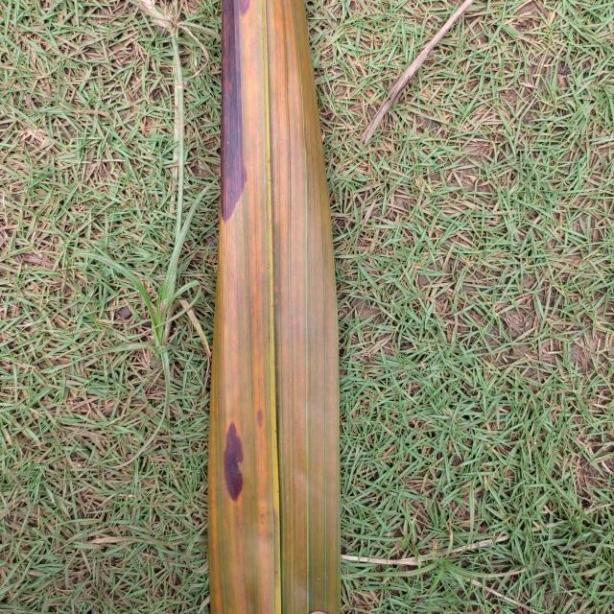Megnesium: (206, 0, 344, 614)
